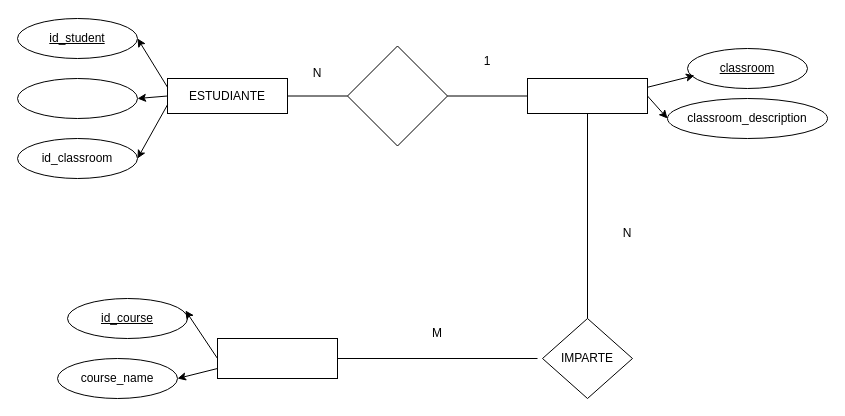
This 845x416 diagram has some shape labels left out. The shapes that lost their labels are listed below. From the top down, each one's centre as x and y in pixels, then its label:
At point (77, 98): "name_student".
At point (397, 95): "PERTENECE".
At point (587, 96): "AULA".
At point (277, 358): "CURSO".
